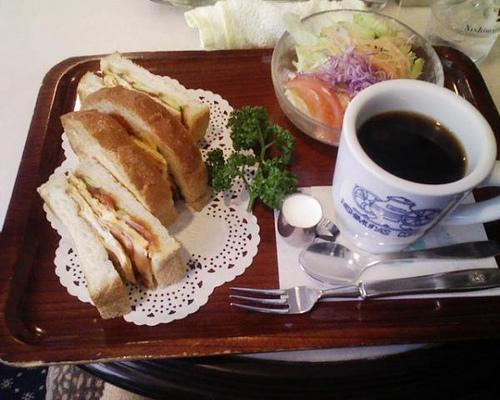tomato: (280, 78, 343, 128)
